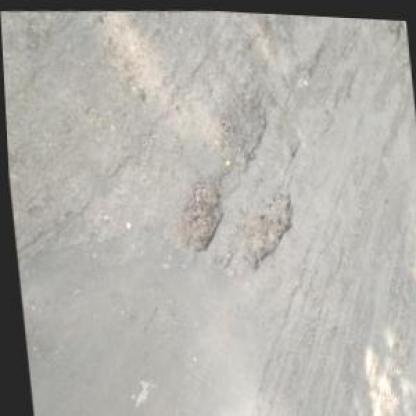pothole: (232, 184, 300, 272), (211, 82, 272, 177), (168, 173, 227, 255)
